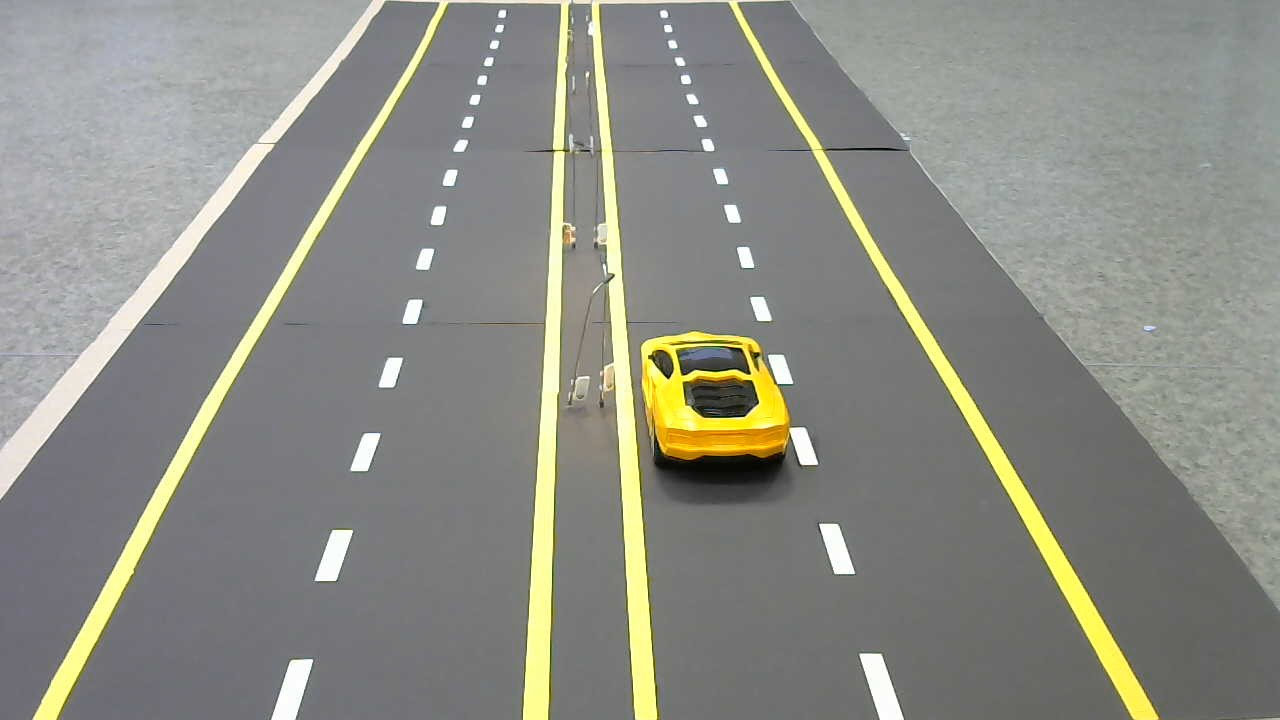back_car: (638, 325, 795, 472)
